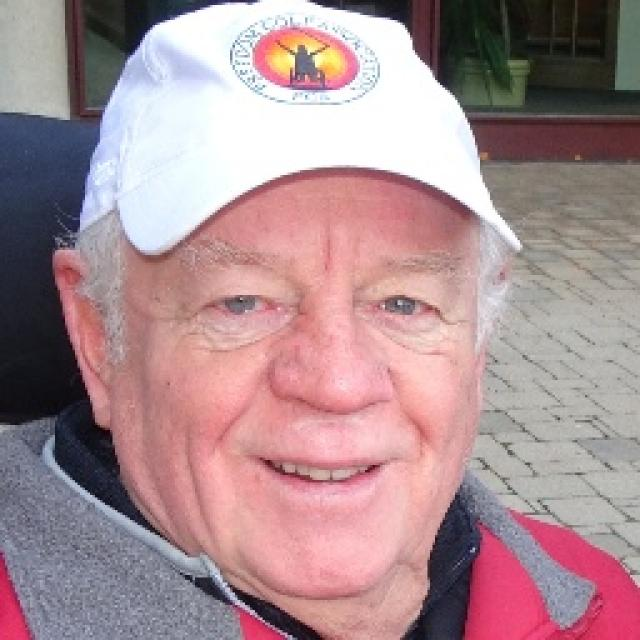earlobe: (51, 248, 112, 430)
